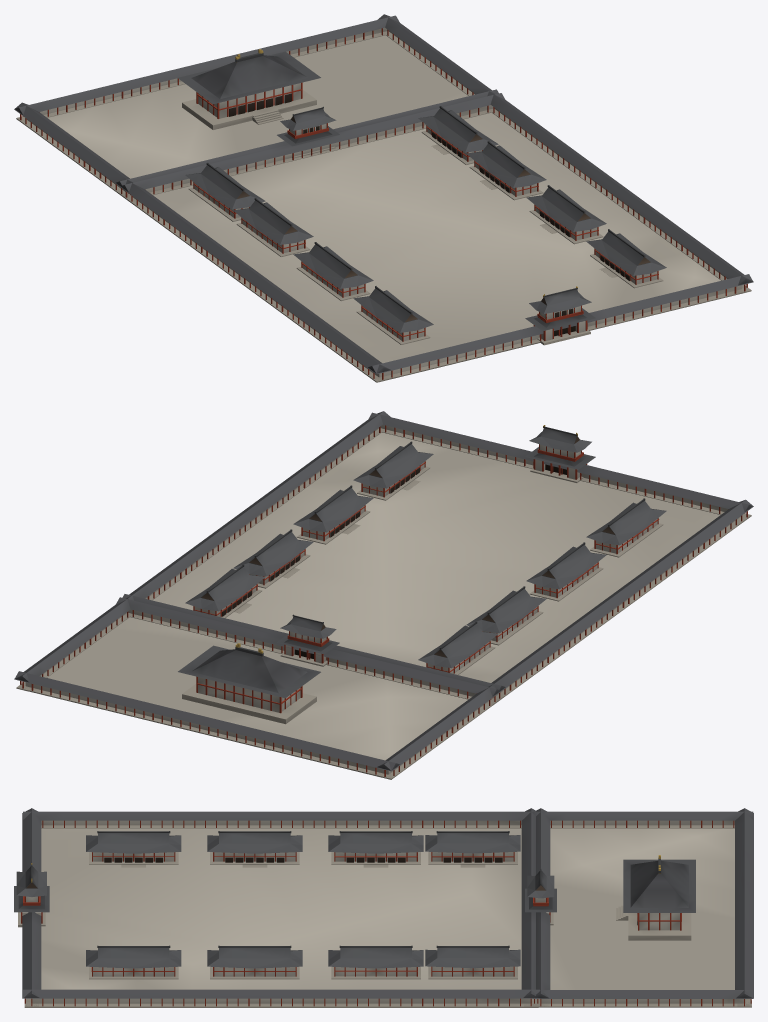
File: chodo-in.glb
The picture shows the model from 3 angles, top to bottom: view 1: azimuth 30°, elevation 25°; view 2: azimuth 150°, elevation 25°; view 3: azimuth 270°, elevation 25°; orthographic projection.
Parts seen in each view (by area): view 1: p0_grounds, p1_halls, p2_roofs; view 2: p0_grounds, p1_halls, p2_roofs; view 3: p0_grounds, p1_halls, p2_roofs.
Part boxes in pixels (box(x1,y1,x2,y2)): p0_grounds: box(48, 35, 720, 363); p1_halls: box(14, 14, 753, 382); p2_roofs: box(178, 49, 666, 332); p0_grounds: box(29, 432, 720, 779); p1_halls: box(14, 411, 753, 779); p2_roofs: box(178, 425, 666, 698); p0_grounds: box(41, 828, 751, 1007); p1_halls: box(18, 808, 753, 1007); p2_roofs: box(14, 831, 695, 968).
Size of the model in its own units: 182 by 25.14 by 305.
